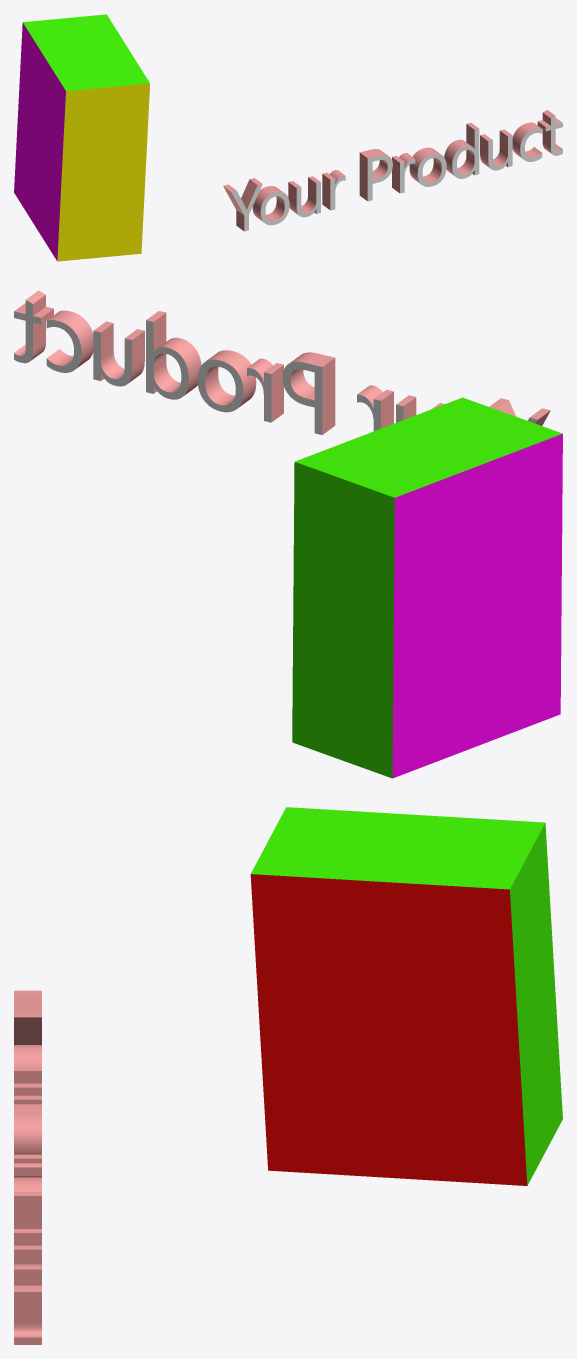
File: asset.gltf
3 views of the same model, one above another, from view 1: azimuth 30°, elevation 25°; view 2: azimuth 150°, elevation 25°; view 3: azimuth 270°, elevation 25° (orthographic). The views are drawn at different scales.
Visible parts, largest first — view 1: Cube.001, d.001, P.001, u_3, u.001, o_3.001, o.001, Y, Cap_1_8.001, Cap_1_5.001, c, t.001 (+7 smaller); view 2: Cube.001, d.001, P.001, o_3.001, u_3, Cap_2_8.001, Cap_2_5.001, c, t.001, Cap_2_7.001, r_3.001, Cap_2_9.001 (+3 smaller); view 3: Cube.001, t.001, Y, P.001, d.001, u_3, u.001, r_3.001.
Boxes of the visible parts, x1,y1,x2,y2 form: Cube.001: (14,14,149,261); d.001: (444,123,478,175); P.001: (359,149,387,200); u_3: (480,129,511,168); u.001: (288,176,320,214); o_3.001: (409,147,441,183); o.001: (252,186,284,222); Y: (223,178,262,230); Cap_1_8.001: (452,129,479,178); Cap_1_5.001: (367,155,392,201); c: (512,122,541,158); t.001: (537,110,562,154); Cube.001: (292,397,562,778); d.001: (146,311,201,395); P.001: (290,352,335,434); o_3.001: (205,350,256,407); u_3: (94,321,144,383); Cap_2_8.001: (146,320,188,399); Cap_2_5.001: (282,361,322,434); c: (47,310,93,368); t.001: (14,290,53,360); Cap_2_7.001: (197,359,243,412); r_3.001: (247,358,283,422); Cap_2_9.001: (93,330,131,386); Cube.001: (250,807,562,1185); t.001: (14,1269,41,1344); Y: (14,990,41,1044); P.001: (14,1106,41,1154); d.001: (14,1192,41,1228); u_3: (14,1229,41,1264); u.001: (14,1067,41,1095); r_3.001: (14,1154,41,1177).
Size of the model in its own units: 5.09 by 2.1 by 3.32.
